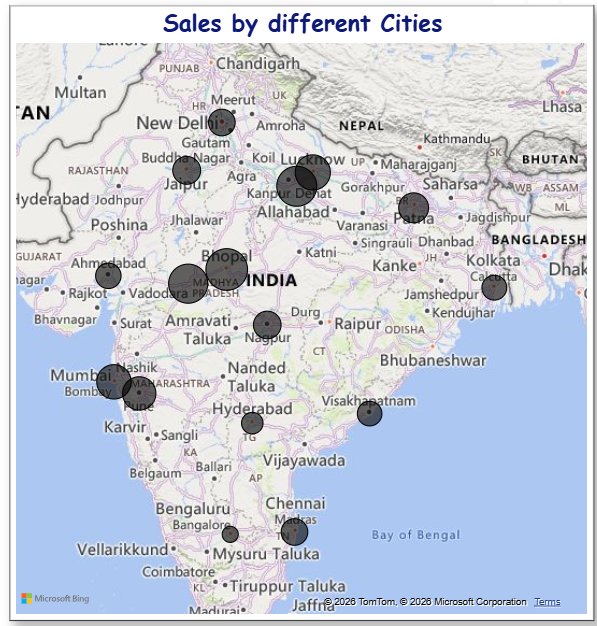

This screenshot's page, from the dashboard's own definition file:
{"tool":"powerbi","page":{"name":"Sales by different cities","canvas":[1280,720],"ordinal":5},"visuals":[{"type":"map","title":"Sales by different Cities","fields":{"Category":["Dim Customers.City"],"Size":["Sum(Fact Table.Net Sales    )"]},"box":[430,98.8,543.8,572.5],"z":0}]}

Visuals, with their boxes on the page's 1280x720 design canvas (x1, y1, x2, y2). These are canvas units, not pixel positions in the 597x626 screenshot, which may show the page scaled, cropped or inside an application window:
"Sales by different Cities" map: [430,99,974,671]
